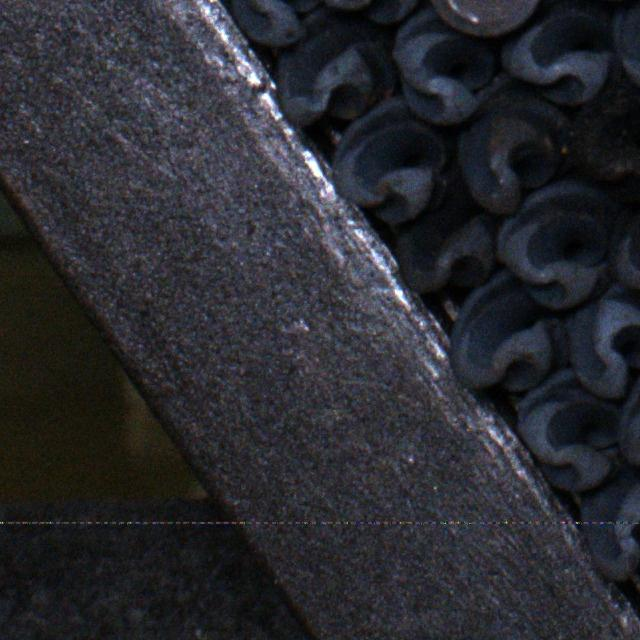tool_b: (493, 180, 618, 307), (332, 97, 448, 226), (451, 272, 570, 394), (458, 91, 574, 213), (277, 11, 396, 125), (514, 370, 622, 492), (390, 6, 494, 126), (498, 1, 618, 104), (398, 188, 501, 291), (565, 284, 640, 399), (571, 83, 640, 201), (224, 0, 332, 44), (425, 0, 559, 35), (609, 179, 640, 303), (582, 525, 640, 587), (580, 466, 640, 523), (611, 0, 640, 94), (318, 0, 430, 23), (618, 361, 640, 476)
